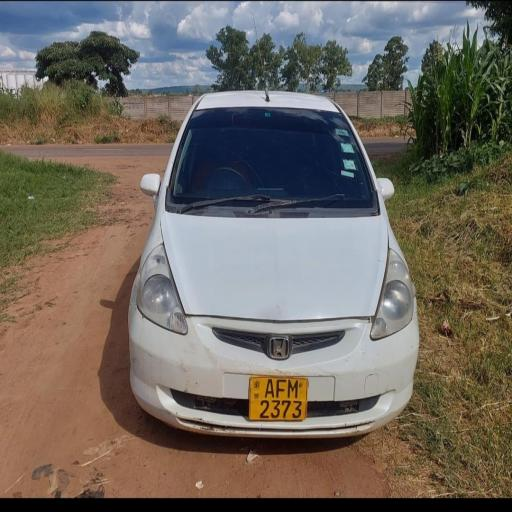number-plates: (248, 376, 306, 420)
